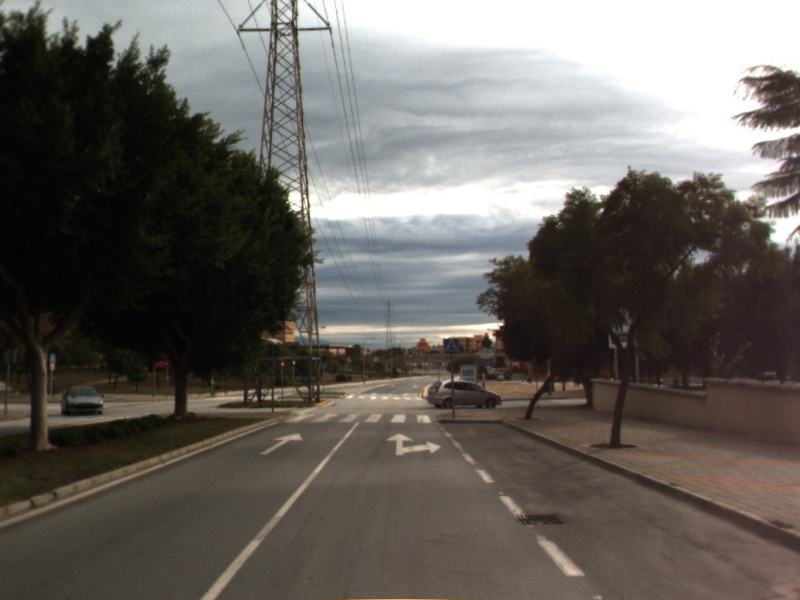STRAIGHT: (257, 430, 305, 457)
STRAIGHT_RIGHT: (384, 431, 443, 458)
